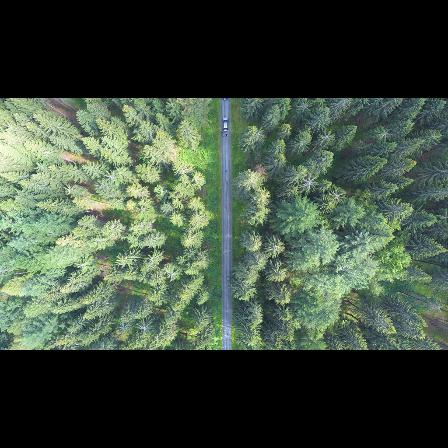Sick: (296, 171, 319, 194), (374, 122, 393, 145), (314, 130, 335, 146), (117, 318, 133, 338), (136, 318, 153, 336), (248, 126, 267, 142), (329, 188, 345, 205), (105, 170, 118, 184)
